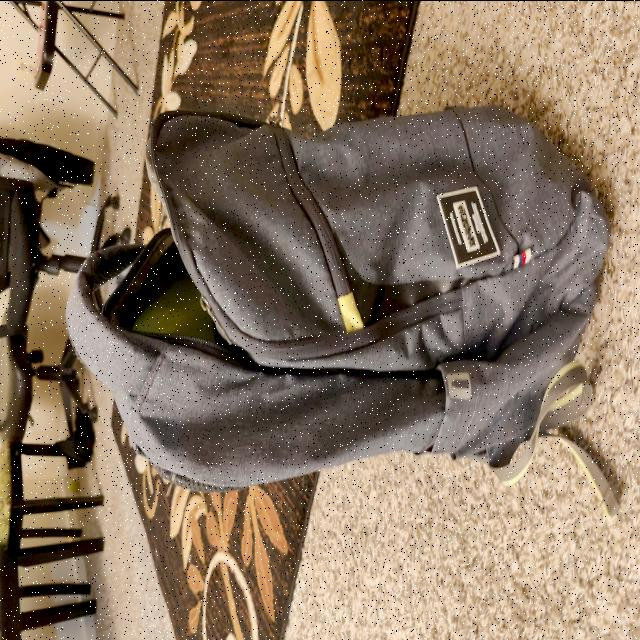bag: (87, 152, 600, 478)
